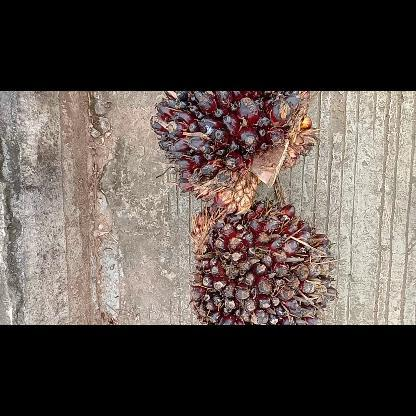TBS mentah: (148, 90, 322, 218), (186, 198, 338, 324)
